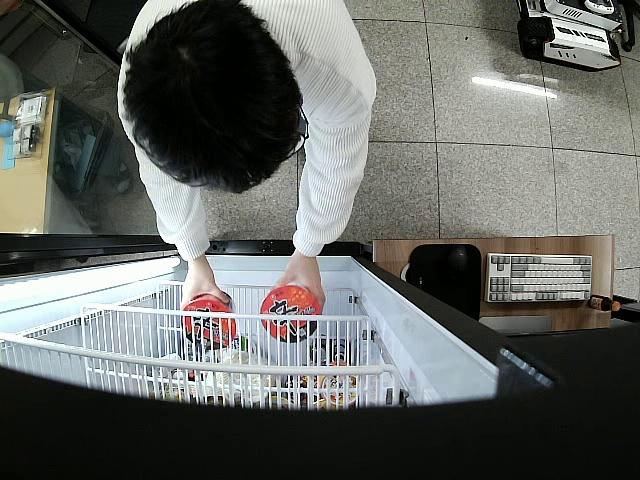00_hand: (272, 254, 325, 309), (181, 264, 231, 307)
01_shinRamen_L: (259, 286, 318, 341), (183, 294, 237, 352)
